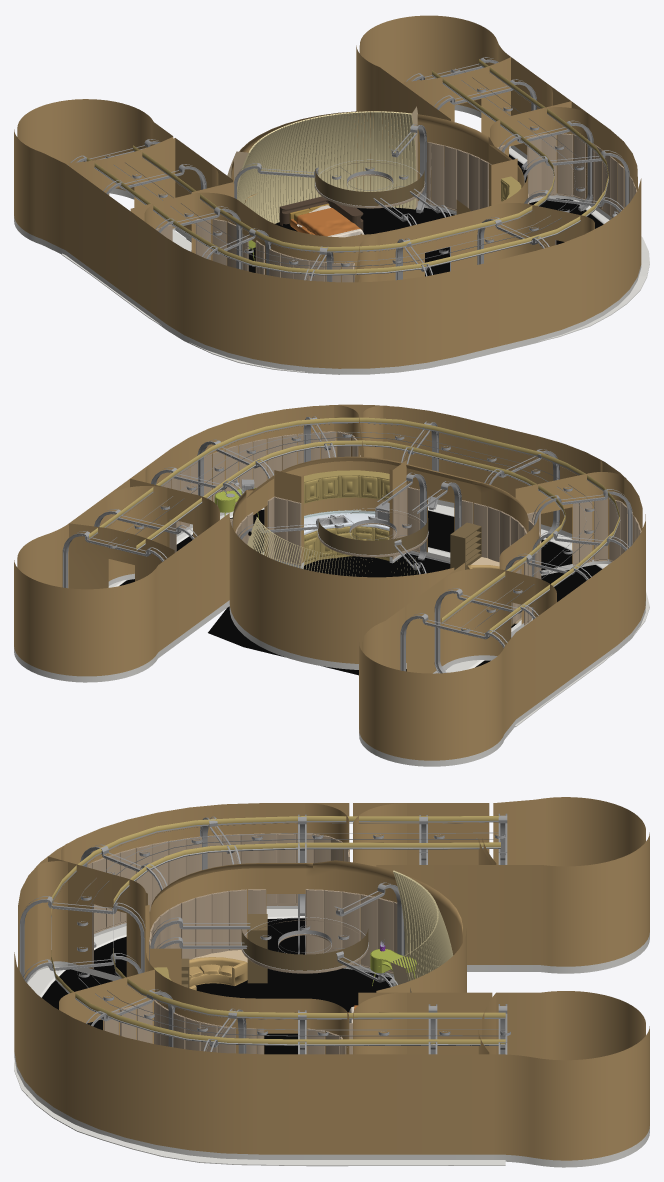
File: LevelLayout.glb
3 views of the same model, one above another, from view 1: azimuth 30°, elevation 25°; view 2: azimuth 150°, elevation 25°; view 3: azimuth 270°, elevation 25° (orthographic). The views are drawn at different scales.
Visible parts, largest first — view 1: Layer:Wall-col, Box016-col, Box011, Object042, Object035, Box010, Object043, Plane027-col, Object033-col, Object037, Object020, CentreRoomTribeam002 (+10 smaller); view 2: Layer:Wall-col, Box011, Box010, Object042, Object035, Object043, Plane027-col, Object044-col, Box021, Object019, Box016-col, Object037 (+11 smaller); view 3: Layer:Wall-col, Box011, Box010, Object042, Object035, Object043, Plane027-col, Object033-col, Box016-col, Object044-col, Object037, Object023 (+13 smaller).
Boxes of the visible parts, x1=… form: Layer:Wall-col: x1=14, y1=15, x2=641, y2=368; Box016-col: x1=237, y1=111, x2=416, y2=223; Box011: x1=156, y1=133, x2=636, y2=282; Object042: x1=86, y1=59, x2=608, y2=273; Object035: x1=14, y1=104, x2=641, y2=374; Box010: x1=242, y1=142, x2=491, y2=271; Object043: x1=94, y1=63, x2=608, y2=275; Plane027-col: x1=186, y1=205, x2=454, y2=276; Object033-col: x1=61, y1=148, x2=649, y2=372; Object037: x1=315, y1=169, x2=424, y2=205; Object020: x1=155, y1=120, x2=593, y2=269; CentreRoomTribeam002: x1=233, y1=124, x2=426, y2=213; Layer:Wall-col: x1=14, y1=404, x2=645, y2=760; Box011: x1=162, y1=431, x2=641, y2=637; Box010: x1=235, y1=487, x2=526, y2=624; Object042: x1=89, y1=417, x2=619, y2=633; Object035: x1=14, y1=497, x2=645, y2=766; Object043: x1=89, y1=422, x2=620, y2=633; Plane027-col: x1=208, y1=553, x2=516, y2=675; Object044-col: x1=119, y1=509, x2=601, y2=667; Box021: x1=304, y1=470, x2=389, y2=503; Object019: x1=62, y1=531, x2=507, y2=671; Box016-col: x1=247, y1=517, x2=417, y2=576; Object037: x1=318, y1=518, x2=428, y2=554; Layer:Wall-col: x1=14, y1=797, x2=649, y2=1160; Box011: x1=87, y1=833, x2=349, y2=1054; Box010: x1=149, y1=889, x2=397, y2=1054; Object042: x1=51, y1=815, x2=505, y2=1044; Object035: x1=14, y1=905, x2=649, y2=1167; Object043: x1=51, y1=820, x2=505, y2=1045; Plane027-col: x1=196, y1=968, x2=391, y2=1054; Object033-col: x1=14, y1=909, x2=505, y2=1166; Box016-col: x1=390, y1=870, x2=453, y2=985; Object044-col: x1=42, y1=918, x2=304, y2=1029; Object037: x1=241, y1=929, x2=368, y2=970; Object023: x1=19, y1=896, x2=145, y2=982.
Bounding box in the file's own units: 143 × 29.97 × 145.
